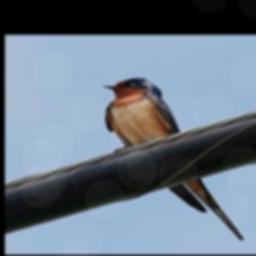Swallow: (101, 76, 244, 240)
